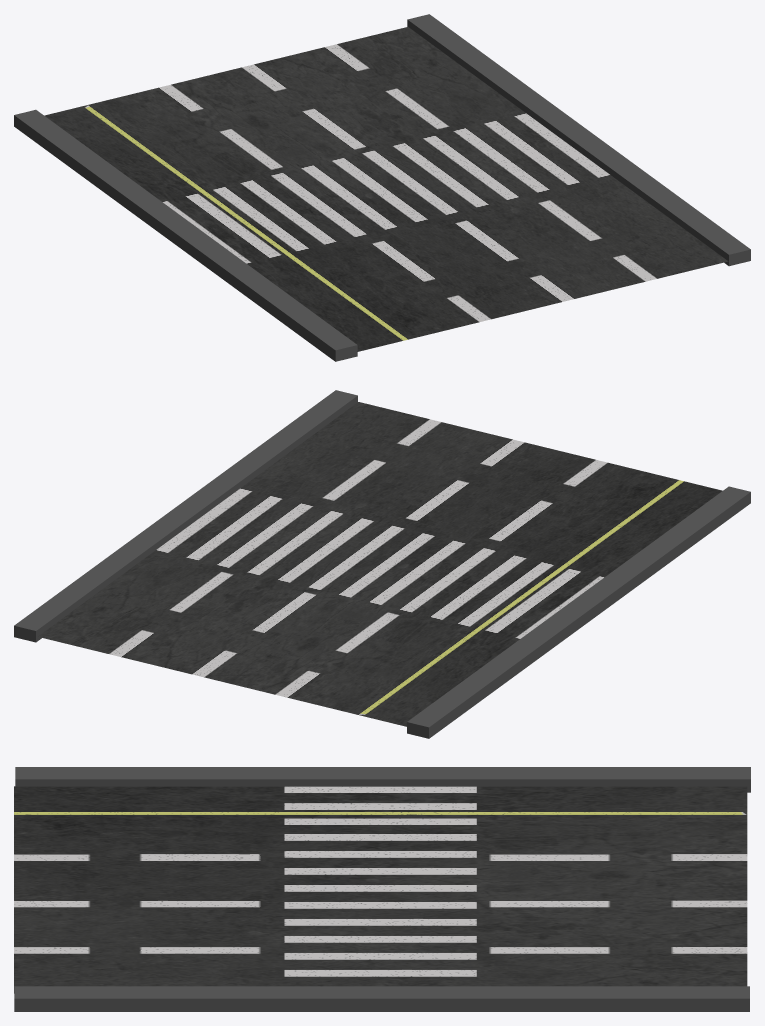
The model's file is 4-Lane-Pedestrian_RIGHT.fbx.
3 views of the same model, one above another, from view 1: azimuth 30°, elevation 25°; view 2: azimuth 150°, elevation 25°; view 3: azimuth 270°, elevation 25° (orthographic). The views are drawn at different scales.
Parts seen in each view (by area): view 1: polySurface34, pCube41, pCube40; view 2: polySurface34, pCube41, pCube40; view 3: polySurface34, pCube40, pCube41.
Part boxes in pixels (box(x1,y1,x2,y2)): polySurface34: box(44, 27, 728, 351); pCube41: box(14, 109, 357, 361); pCube40: box(407, 14, 750, 266); polySurface34: box(38, 402, 722, 726); pCube41: box(407, 486, 750, 738); pCube40: box(14, 390, 357, 642); polySurface34: box(14, 786, 747, 993); pCube40: box(14, 986, 749, 1011); pCube41: box(15, 767, 750, 792).
Bounding box in the file's own units: 71.22 × 1.88 × 95.74.
Materials: 2 (1 with a texture image).
